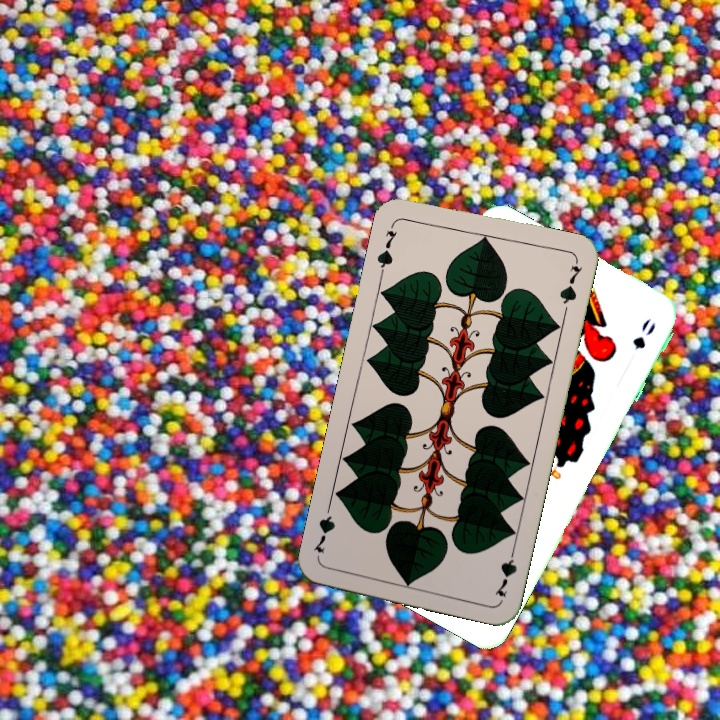G7: (490, 542, 520, 600), (372, 218, 400, 276)
